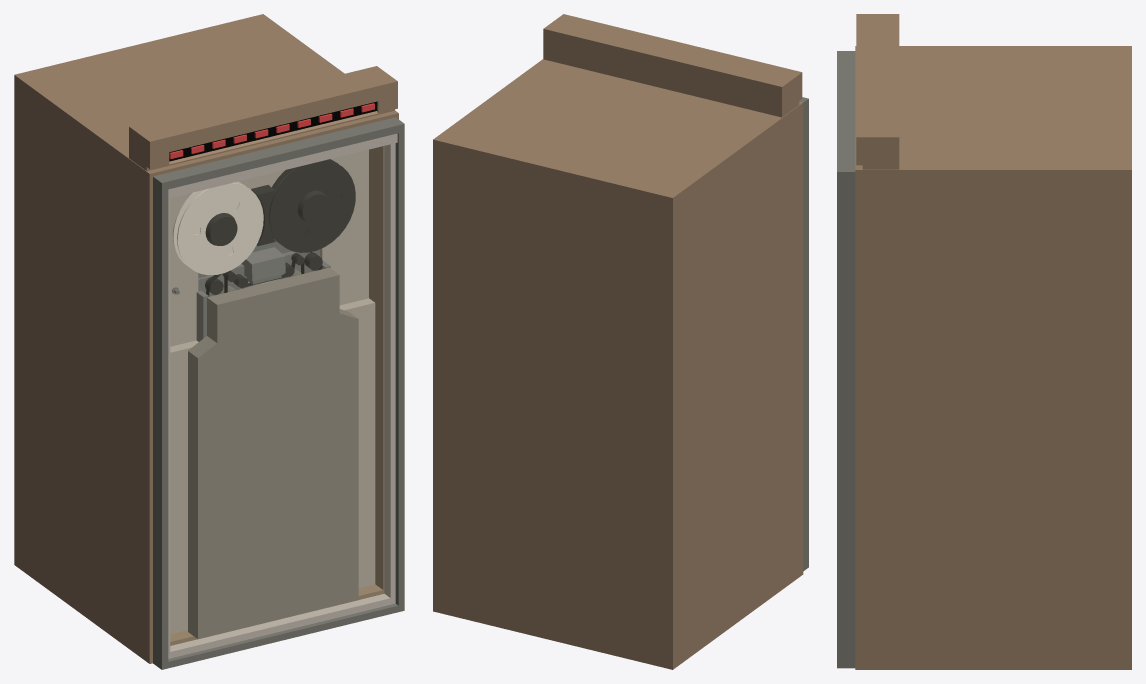
The model's file is Univac_Armoire_Bobine.glb.
3 views of the same model, side by side, from view 1: azimuth 30°, elevation 25°; view 2: azimuth 150°, elevation 25°; view 3: azimuth 270°, elevation 25° (orthographic). The views are drawn at different scales.
Parts seen in each view (by area): view 1: ibm_2401; view 2: ibm_2401; view 3: ibm_2401.
Part boxes in pixels (left/top/right/bottom): ibm_2401: left=14, top=14, right=404, bottom=669; ibm_2401: left=433, top=14, right=808, bottom=669; ibm_2401: left=837, top=14, right=1131, bottom=669.
Bounding box in the file's own units: 0.8743 × 1.75 × 0.8787.
